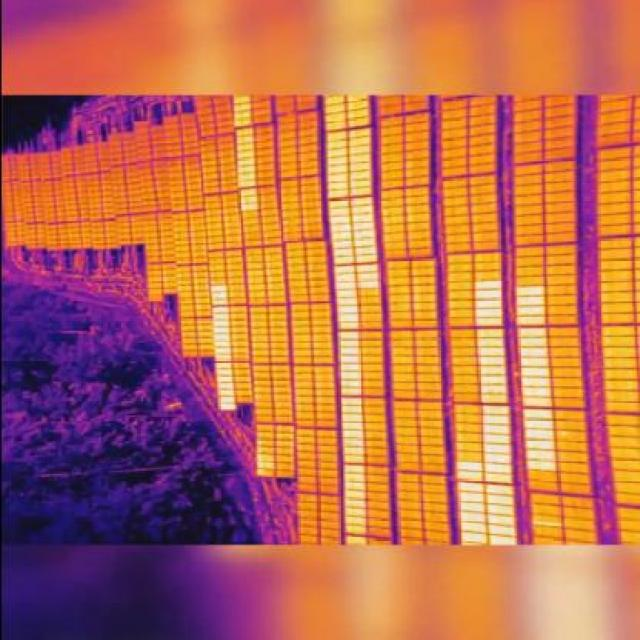diode: (453, 524, 481, 536), (479, 440, 507, 452), (479, 393, 507, 404), (453, 484, 478, 496), (518, 376, 547, 386), (454, 514, 478, 526), (454, 504, 478, 516), (454, 494, 478, 506), (519, 364, 547, 374), (522, 414, 550, 424), (485, 530, 510, 541), (516, 313, 546, 322), (518, 334, 545, 344), (519, 352, 546, 362), (522, 382, 549, 392), (525, 438, 552, 448), (452, 466, 476, 477), (478, 404, 507, 413), (478, 422, 507, 431), (523, 426, 549, 436), (519, 394, 547, 403), (475, 369, 503, 378), (515, 290, 542, 299), (476, 376, 506, 384), (476, 386, 506, 394), (520, 344, 546, 353), (527, 459, 553, 468), (473, 290, 499, 299), (476, 342, 502, 351), (483, 490, 509, 499), (478, 439, 507, 447), (487, 519, 508, 530), (453, 476, 476, 486), (337, 508, 360, 518), (475, 317, 500, 326), (476, 333, 501, 342), (476, 361, 501, 370), (335, 490, 360, 499), (515, 302, 543, 310), (522, 405, 550, 413), (523, 449, 551, 457), (472, 282, 500, 290), (453, 537, 481, 545), (486, 508, 508, 518), (336, 438, 358, 448), (335, 372, 357, 382), (356, 274, 378, 284), (325, 132, 347, 142), (475, 307, 499, 316), (477, 352, 501, 361), (479, 470, 506, 478), (478, 462, 508, 469), (475, 325, 500, 333), (335, 364, 357, 373), (350, 117, 372, 126), (528, 520, 560, 526), (474, 299, 498, 307), (451, 456, 475, 464), (335, 338, 354, 348), (479, 451, 506, 458), (484, 484, 511, 491), (327, 173, 348, 182), (328, 116, 349, 125), (328, 103, 349, 112), (351, 168, 372, 177), (328, 140, 349, 149), (514, 283, 544, 289), (358, 256, 376, 266), (352, 134, 370, 144), (352, 126, 370, 136), (340, 530, 362, 538), (348, 177, 370, 185), (350, 160, 372, 168), (350, 142, 372, 150), (212, 338, 231, 347), (332, 214, 351, 223), (358, 264, 377, 273), (352, 184, 371, 193), (515, 326, 543, 332), (477, 413, 505, 419), (482, 501, 510, 507), (337, 430, 358, 438), (328, 190, 349, 198), (354, 246, 375, 254), (327, 123, 348, 131), (340, 448, 358, 457), (335, 258, 353, 267), (335, 207, 353, 216), (330, 198, 348, 207), (350, 151, 368, 160), (352, 105, 370, 114), (234, 114, 252, 123), (335, 298, 357, 305), (355, 238, 377, 245), (348, 95, 370, 102), (336, 355, 355, 363), (329, 155, 348, 163), (235, 147, 254, 155), (480, 432, 505, 438), (352, 194, 373, 201), (215, 386, 233, 394), (212, 345, 230, 353), (212, 329, 228, 338), (342, 520, 360, 528), (338, 500, 362, 506), (338, 423, 356, 431), (337, 282, 355, 290), (338, 273, 354, 282), (255, 455, 273, 463), (484, 540, 511, 545), (330, 164, 345, 173), (237, 161, 252, 170), (355, 228, 374, 235), (353, 202, 372, 209), (233, 108, 252, 115), (338, 466, 360, 472), (338, 540, 360, 546), (339, 388, 361, 394), (336, 348, 358, 354), (333, 252, 355, 258), (332, 241, 354, 247), (336, 332, 358, 338), (336, 233, 352, 241), (337, 483, 358, 489), (338, 382, 356, 389), (334, 266, 355, 272), (240, 185, 258, 192), (339, 458, 359, 464), (233, 101, 250, 108), (335, 292, 354, 298), (333, 224, 352, 230), (329, 182, 348, 188), (329, 97, 348, 103), (355, 220, 374, 226), (236, 156, 255, 162), (235, 126, 254, 132), (336, 310, 355, 316), (218, 393, 232, 401), (212, 302, 228, 309), (212, 289, 226, 297), (329, 149, 351, 154), (214, 380, 232, 386), (214, 373, 232, 379), (338, 474, 356, 480), (337, 318, 355, 324), (338, 306, 356, 312), (340, 398, 358, 404), (355, 212, 373, 218), (218, 402, 236, 408), (240, 202, 255, 209), (239, 193, 256, 199), (236, 141, 253, 147), (257, 463, 274, 469), (213, 324, 229, 330), (239, 177, 255, 183), (238, 172, 254, 178), (339, 416, 358, 421), (214, 354, 229, 360), (217, 399, 235, 404), (340, 406, 355, 412), (237, 136, 252, 142), (211, 282, 224, 288), (215, 360, 230, 365), (213, 311, 225, 317), (338, 327, 356, 331), (234, 97, 251, 101), (211, 319, 227, 323), (217, 368, 231, 372), (214, 298, 228, 302)
hotspot: (256, 471, 266, 475)
